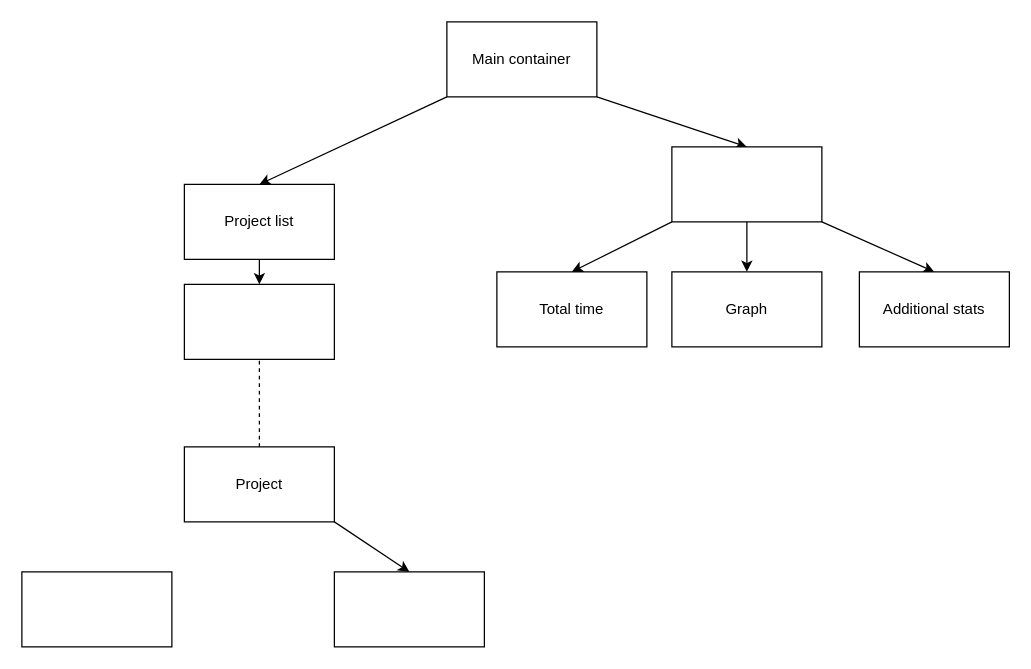
Some shapes in this 1031 by 669 pixel diagram are drawn without their labels. The shapes that lost their labels are listed below. From the top down, each one's centre as x and y in pixels, then its label:
(x=746, y=184): stats
(x=258, y=321): ...Project card
(x=408, y=609): Pomodoro
